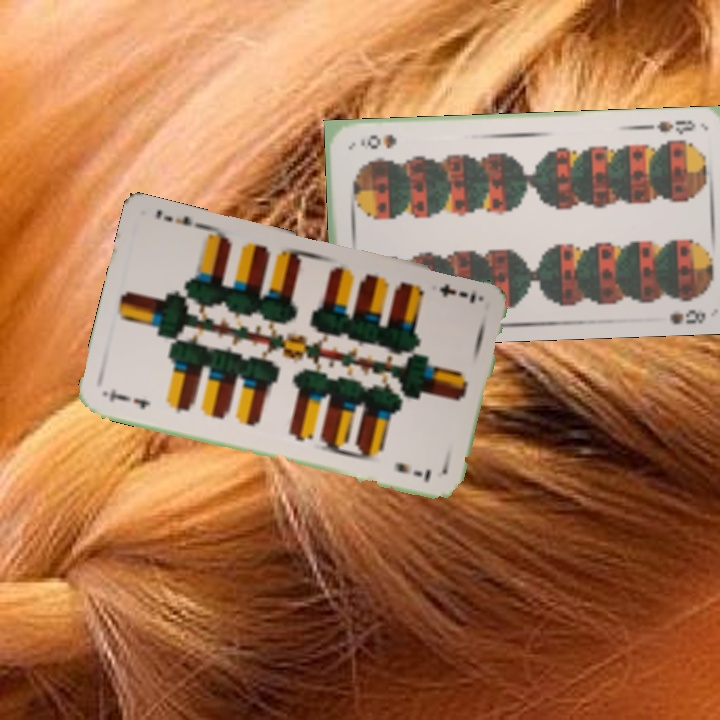E7: (101, 385, 153, 412), (435, 279, 479, 307)
S8: (639, 116, 698, 138)
